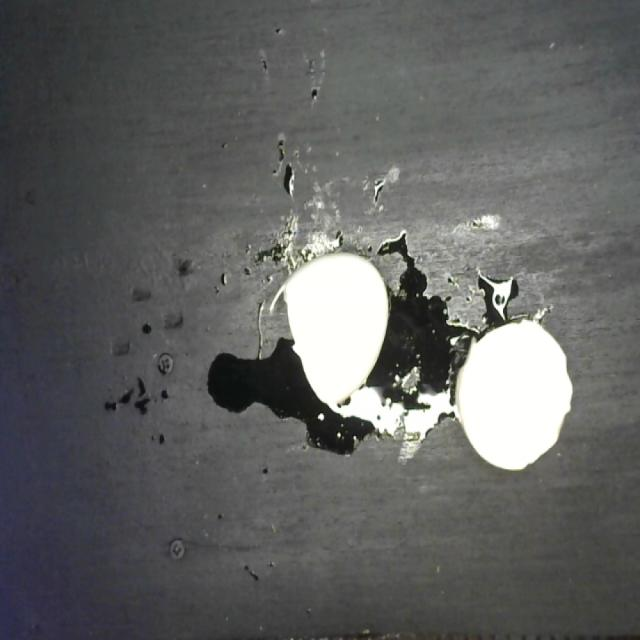biodegradable: (261, 243, 575, 477)
